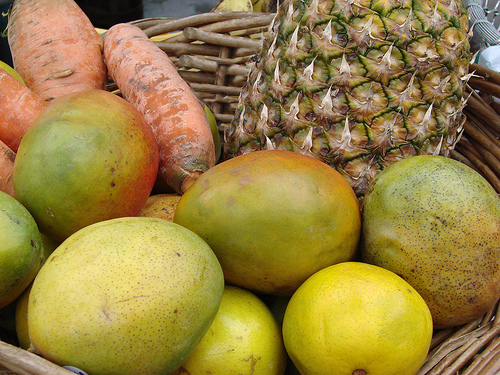pineapple: (225, 0, 474, 194)
